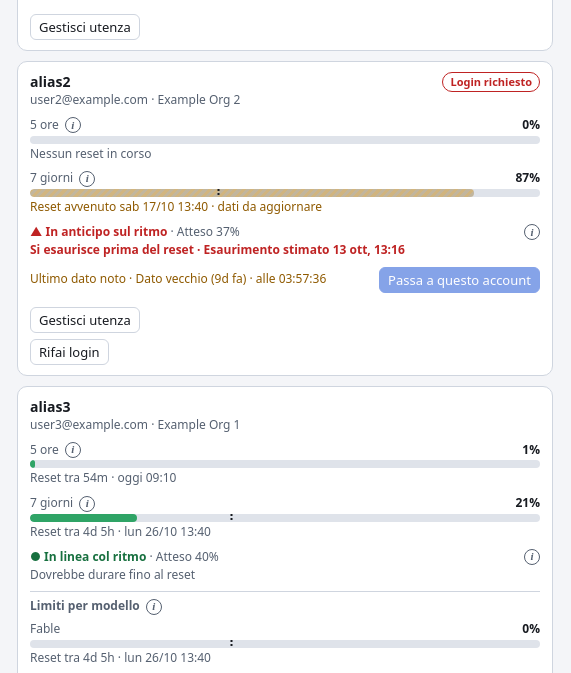
Scenario: Rifai login (F21) › Claude Code non trovato rimanda alle impostazioni
The image size is (571, 673).
(page scrolled)
Click the button with aria-label "Rifai login di " at point(69, 352), box 30,339 -> 108,365
(page scrolled)
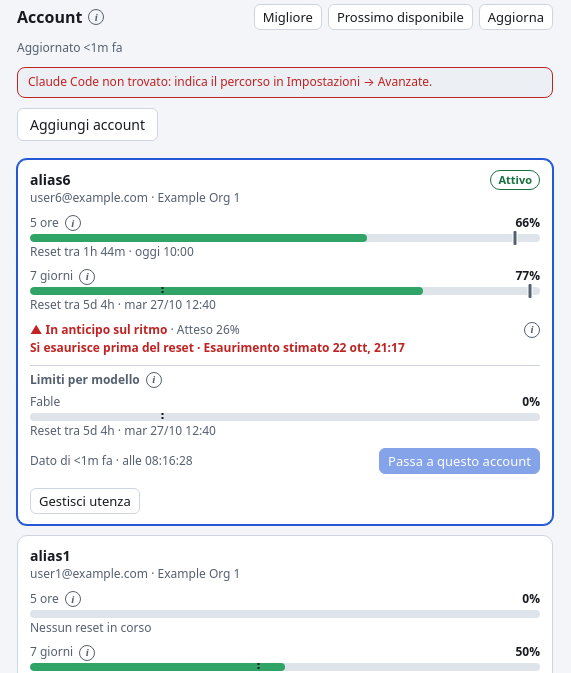
Result: the text "Claude Code non trovato: indica il percorso in Impostazioni → Avanzate." is shown at 17,67 -> 553,98
